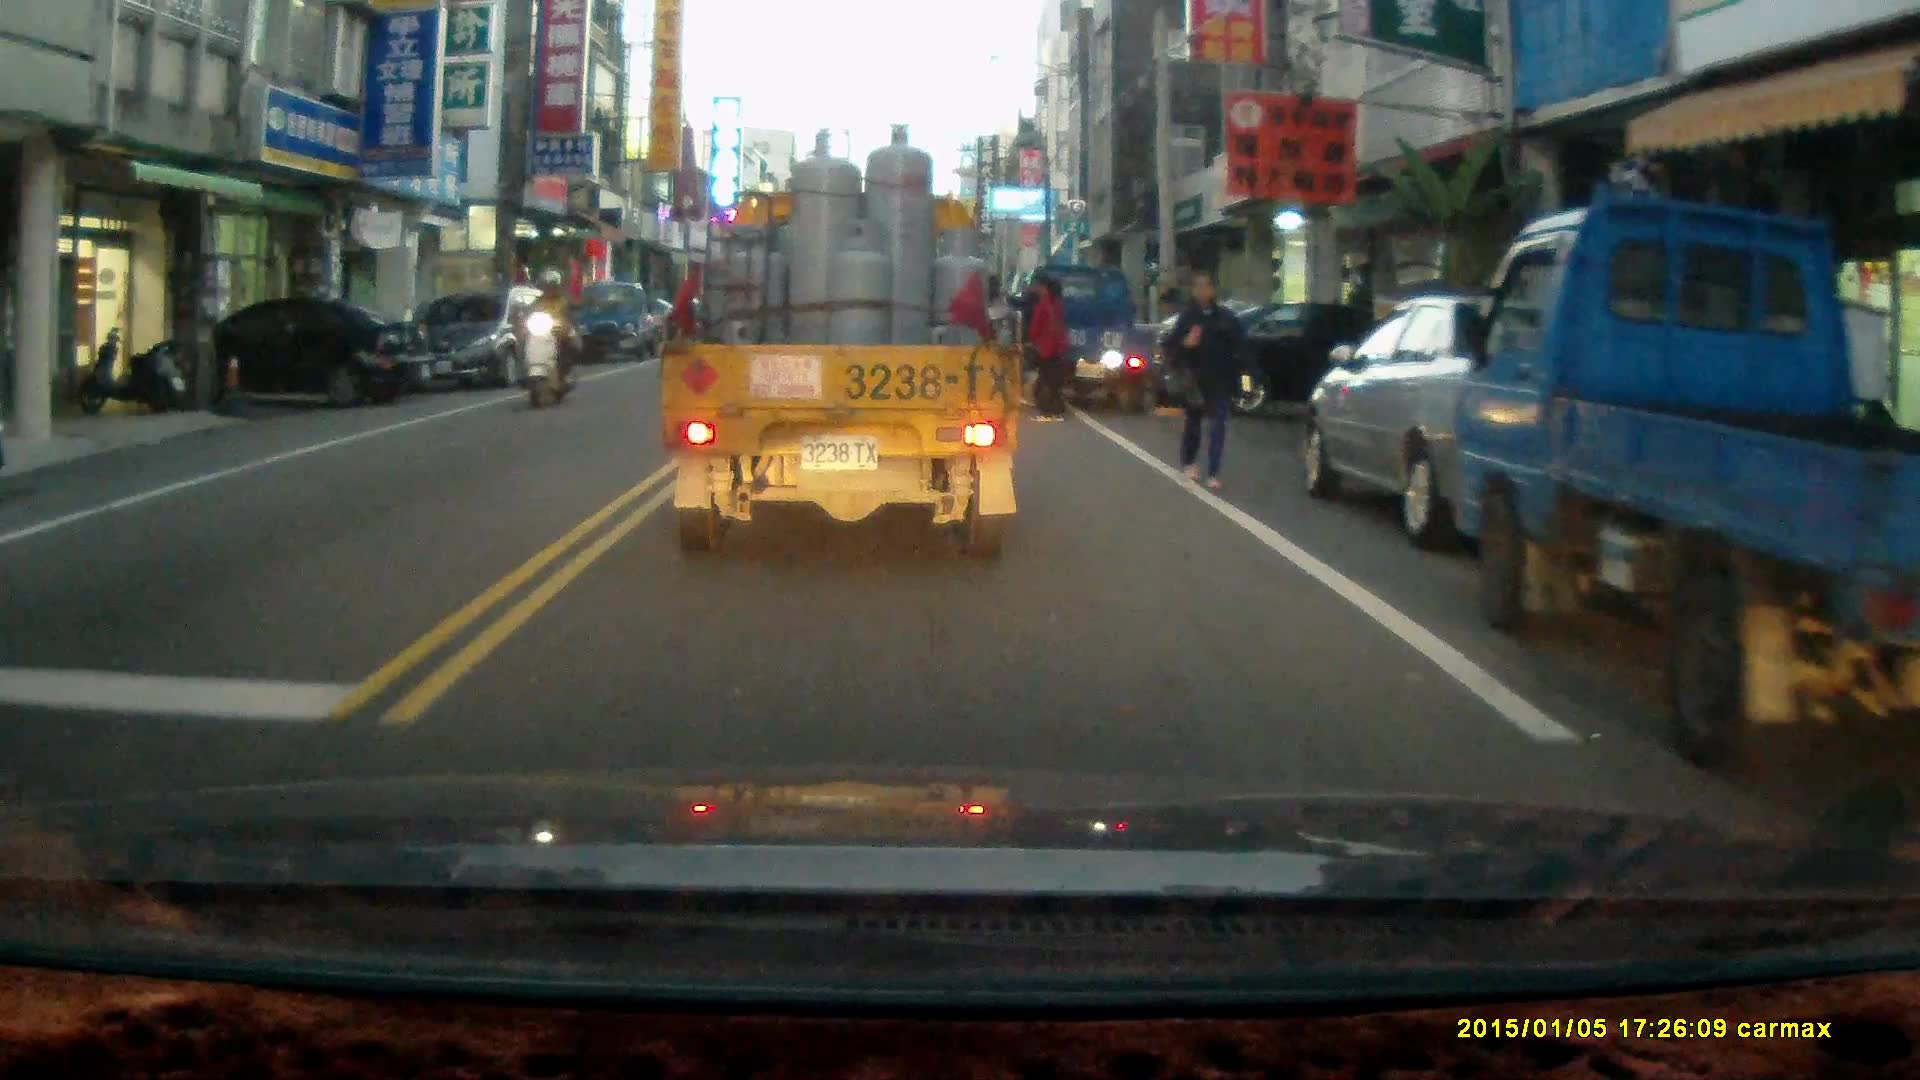pedestrian: (1161, 265, 1259, 488), (1024, 275, 1066, 417)
rider: (516, 265, 579, 409)
vehicle: (1452, 190, 1920, 774), (663, 123, 1025, 565), (1302, 290, 1643, 556), (1164, 297, 1450, 430), (122, 294, 428, 408), (1008, 261, 1161, 412), (418, 290, 564, 395), (568, 279, 675, 365)
